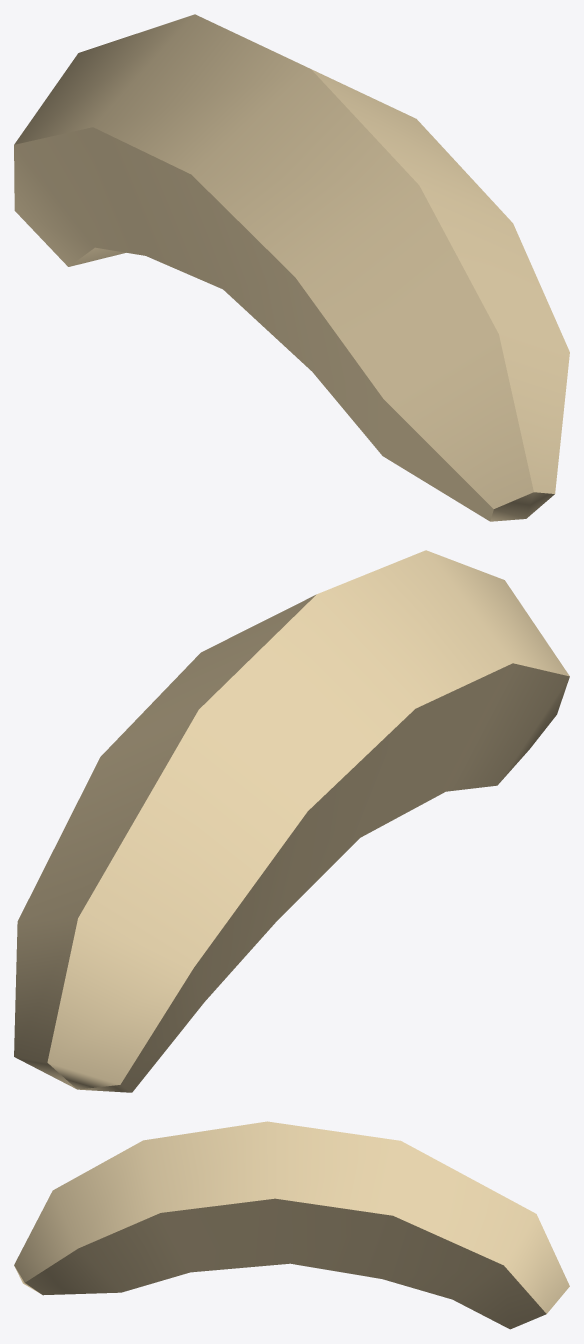
The model's file is Asset_Projectile_Banana.fbx.
3 renders of one model, top to bottom at view 1: azimuth 30°, elevation 25°; view 2: azimuth 150°, elevation 25°; view 3: azimuth 270°, elevation 25°, orthographic. The views are drawn at different scales.
Visible parts, largest first — view 1: Asset_Projectile_Banana; view 2: Asset_Projectile_Banana; view 3: Asset_Projectile_Banana.
Boxes of the visible parts, bbox=[...] form: Asset_Projectile_Banana: bbox=[14, 14, 569, 521]; Asset_Projectile_Banana: bbox=[14, 550, 569, 1092]; Asset_Projectile_Banana: bbox=[14, 1121, 569, 1329].
Size of the model in its own units: 5.09 by 7.62 by 19.51.
